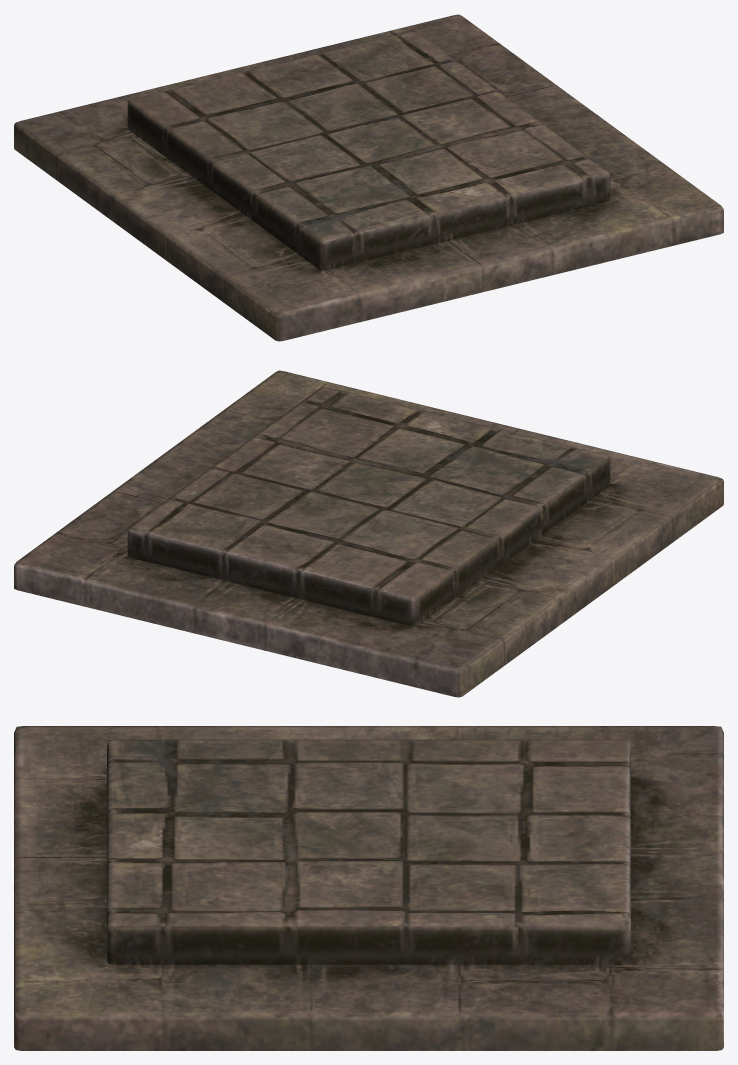
File: SM_tombstone_15.fbx
The picture shows the model from 3 angles, top to bottom: view 1: azimuth 30°, elevation 25°; view 2: azimuth 150°, elevation 25°; view 3: azimuth 270°, elevation 25°; orthographic projection. The views are drawn at different scales.
Parts seen in each view (by area): view 1: SM_tombstone_015; view 2: SM_tombstone_015; view 3: SM_tombstone_015.
Boxes of the visible parts, x1,y1,x2,y2 form: SM_tombstone_015: (14, 14, 723, 341); SM_tombstone_015: (14, 370, 723, 697); SM_tombstone_015: (14, 726, 723, 1050).
Bounding box in the file's own units: 130 × 15.11 × 133.
